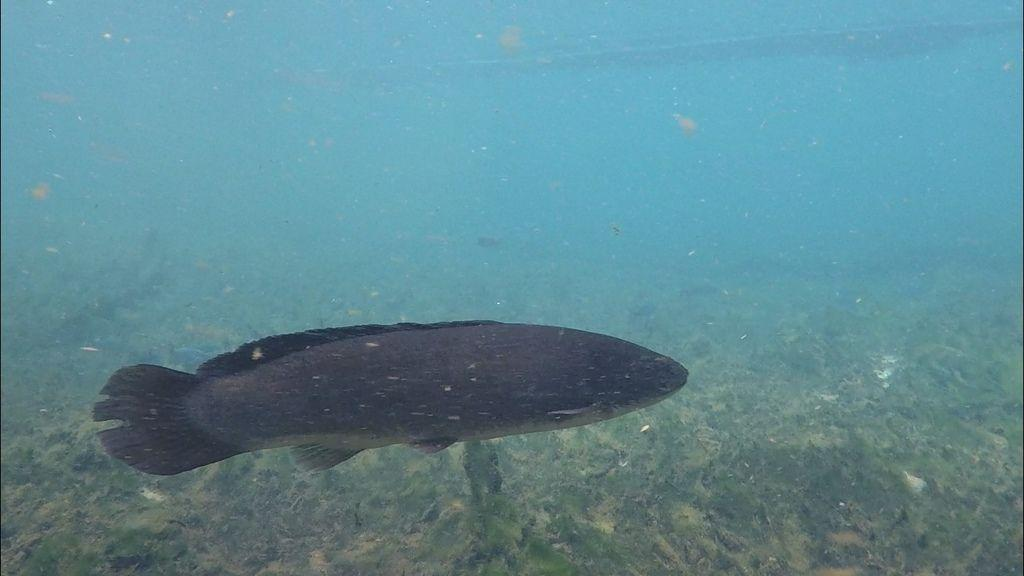Mudfish: (96, 314, 694, 479)
